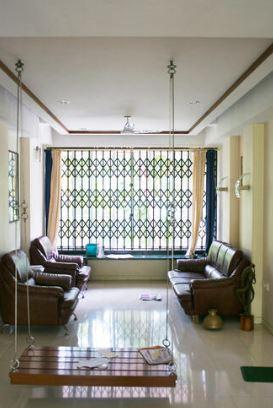chair: (0, 251, 83, 337), (30, 229, 96, 294)
fan: (87, 114, 166, 144)
light: (230, 169, 256, 203), (211, 169, 230, 201), (54, 94, 73, 112), (187, 94, 201, 106)
sofa: (158, 240, 263, 325)
